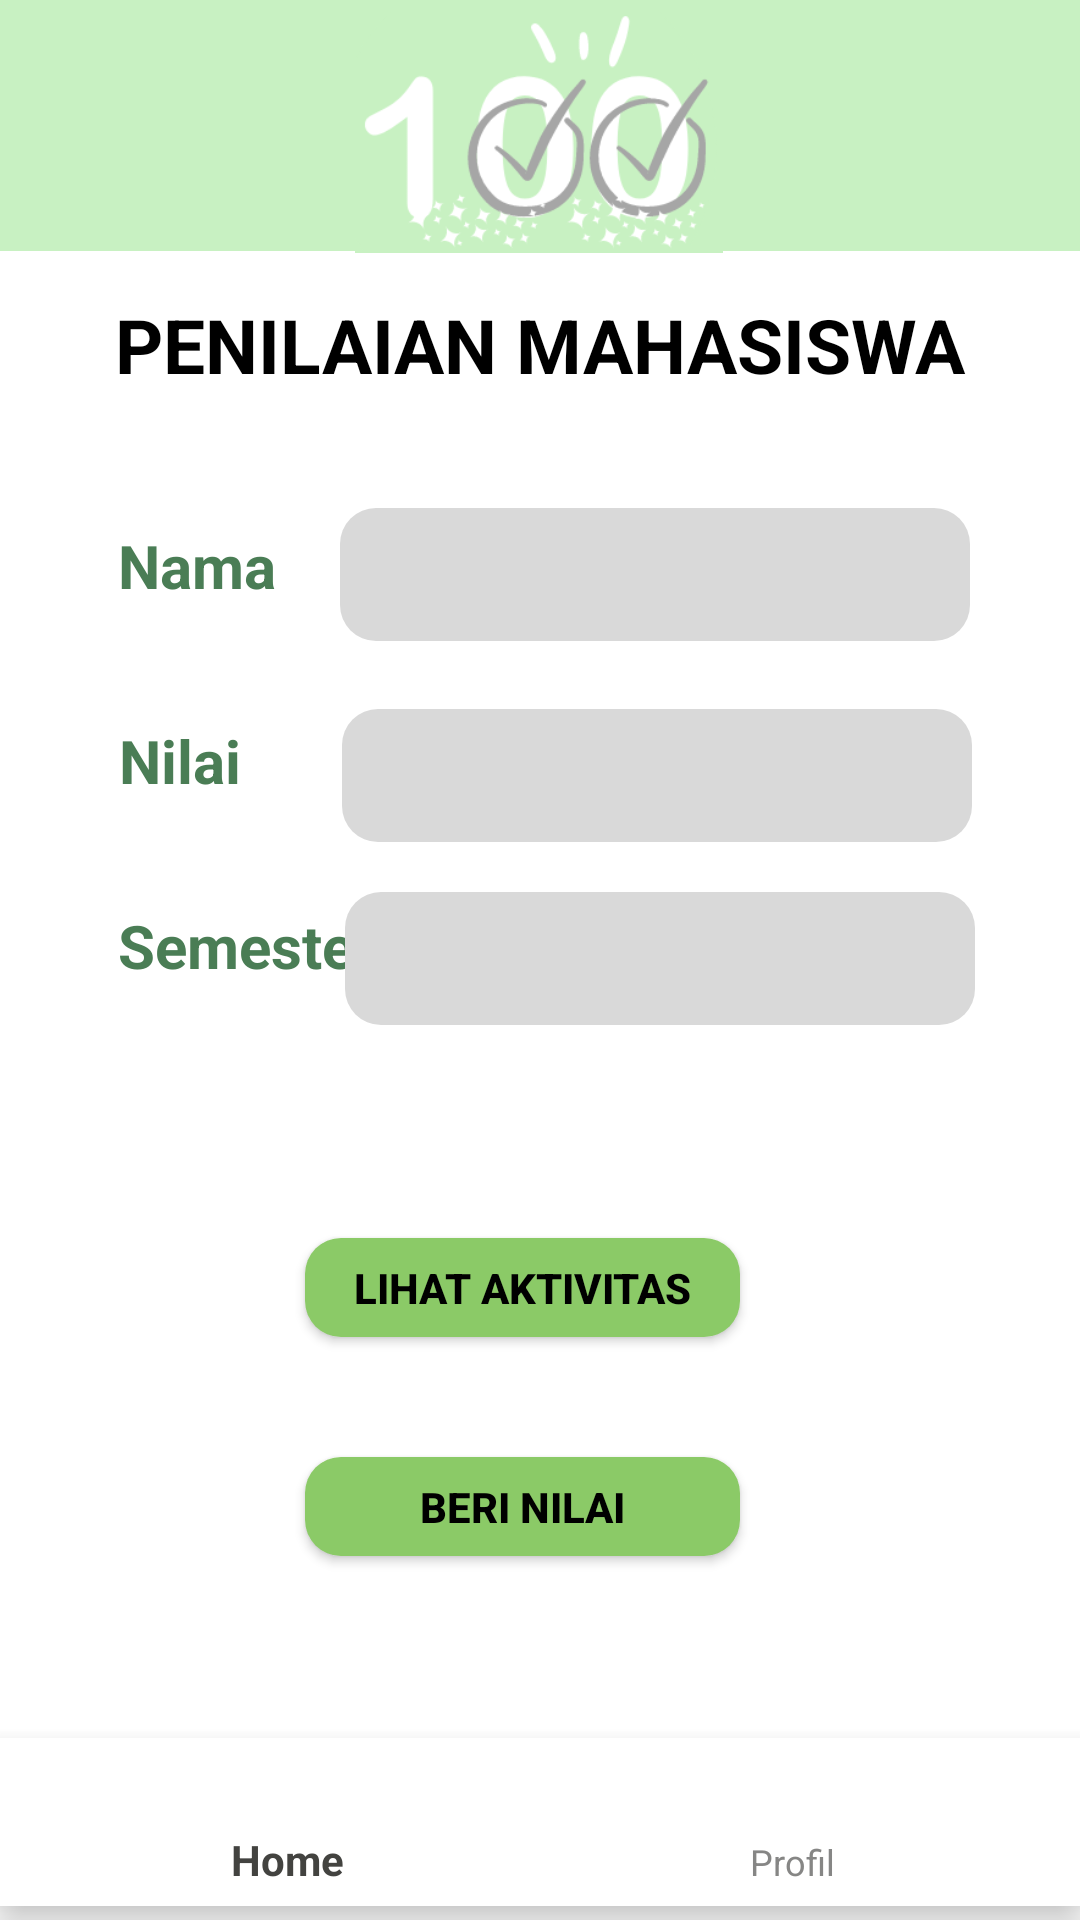

Screen size 1080px x 1920px. Icon name, then its center in pixels as point (x, y):
headerdotask: point (536, 131)
